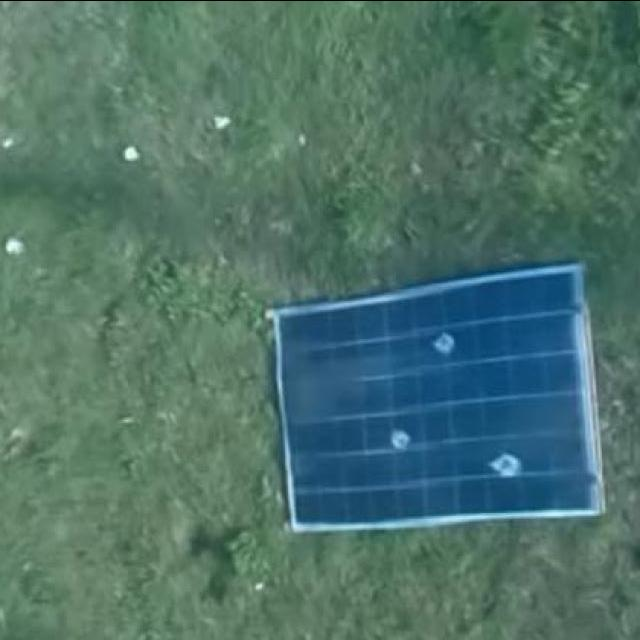soiled: (272, 262, 610, 529)
